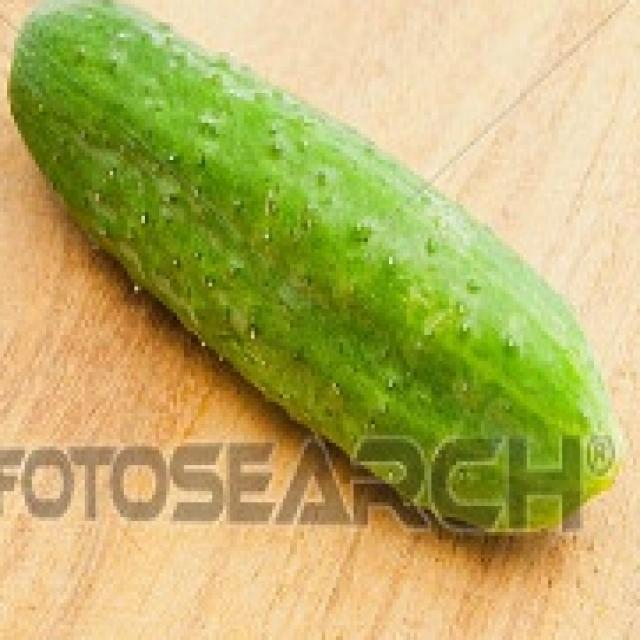cucumber: (0, 0, 612, 536)
